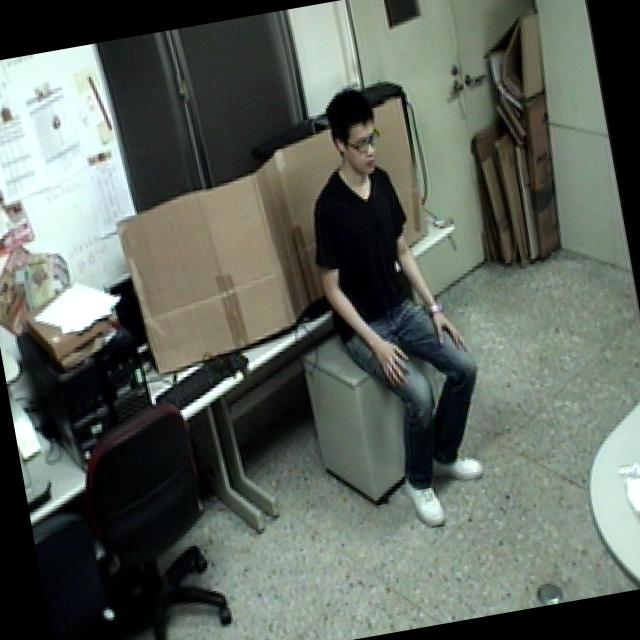sit: (281, 65, 510, 548)
